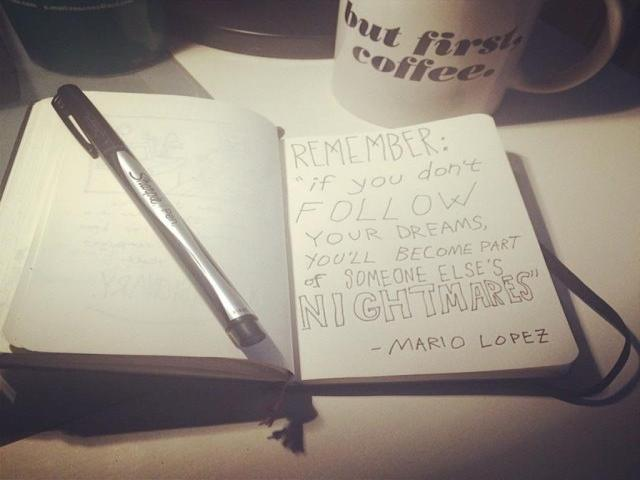PEN: (49, 78, 268, 351)
